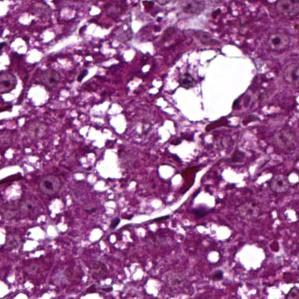ballooning: (161, 42, 258, 124)
